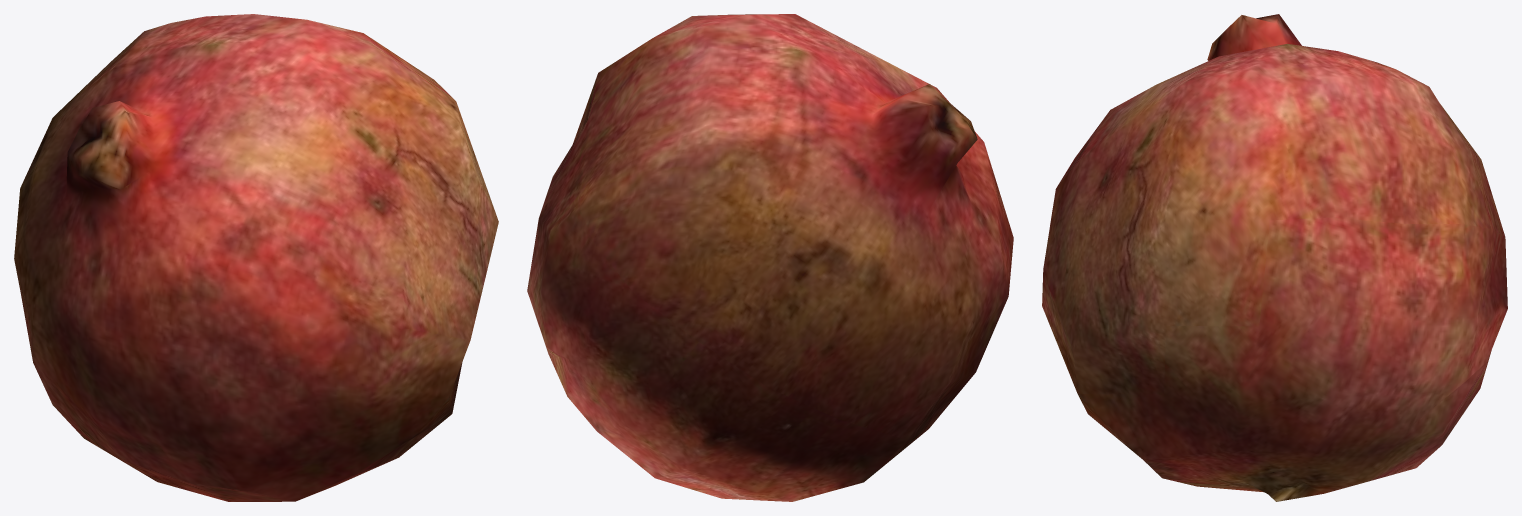
Rendered from A86_Pomegranite_low.fbx.
3 views of the same model, side by side, from view 1: azimuth 30°, elevation 25°; view 2: azimuth 150°, elevation 25°; view 3: azimuth 270°, elevation 25° (orthographic). The views are drawn at different scales.
Parts seen in each view (by area): view 1: A86_Pomegranite_low; view 2: A86_Pomegranite_low; view 3: A86_Pomegranite_low.
Part boxes in pixels (bbox=[...]): A86_Pomegranite_low: bbox=[14, 14, 498, 501]; A86_Pomegranite_low: bbox=[527, 14, 1013, 501]; A86_Pomegranite_low: bbox=[1042, 14, 1507, 501].
Size of the model in its own units: 8.49 by 8.35 by 8.52.
Materials: 1 (1 with a texture image).
